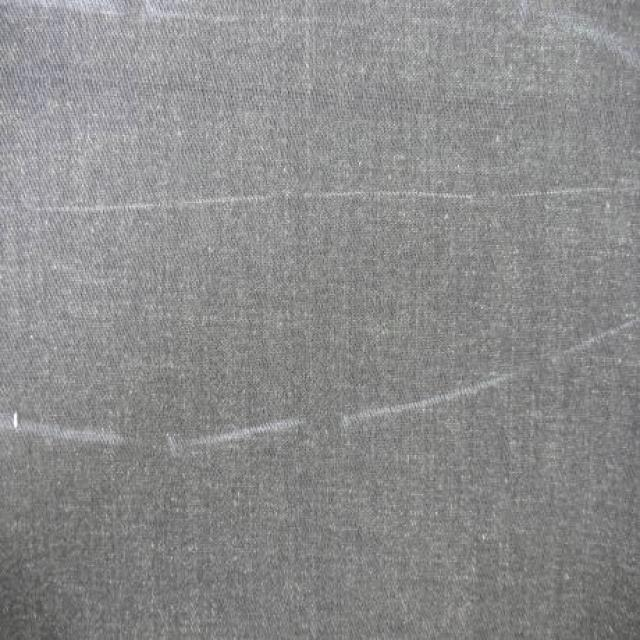stain: (5, 309, 632, 467)
